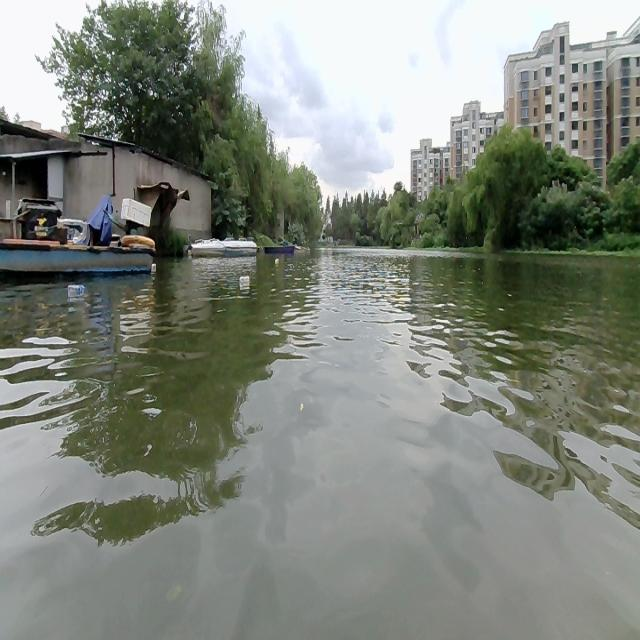bottle: (66, 282, 86, 298), (238, 274, 250, 284), (148, 261, 156, 271), (274, 257, 280, 265)
